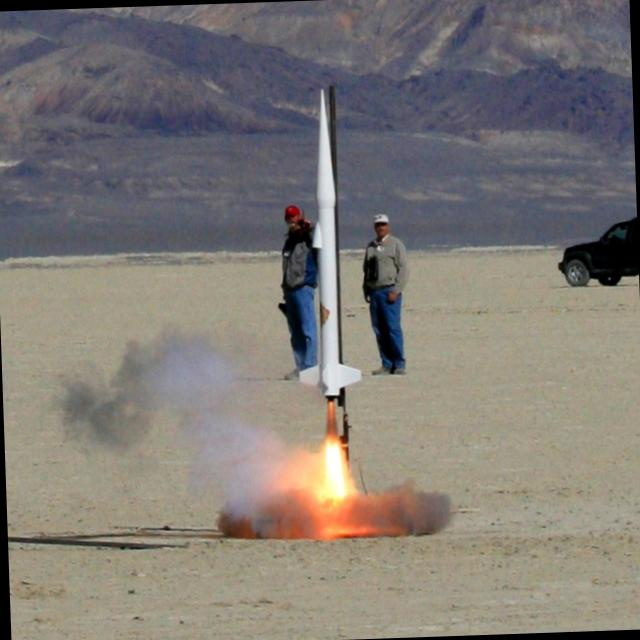rocket: (296, 84, 361, 500)
